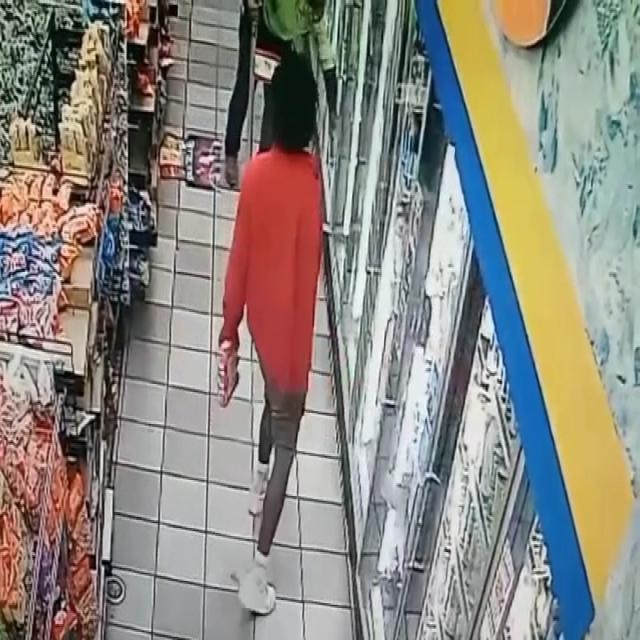Normal: (211, 51, 328, 622)
